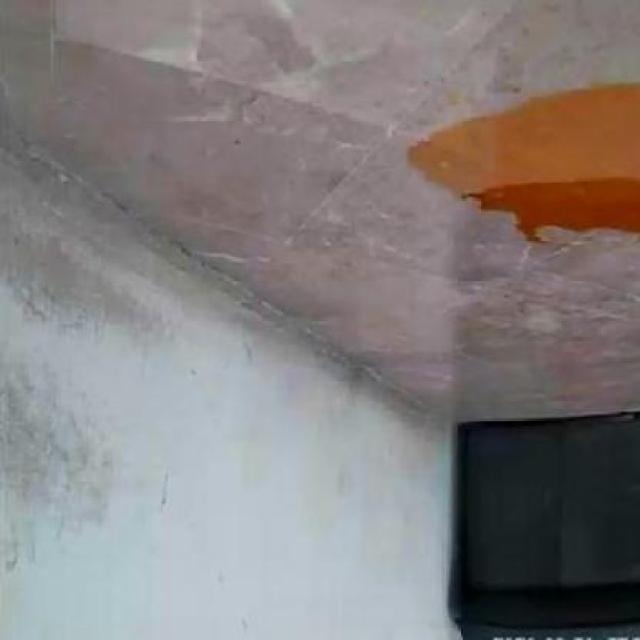spillage: (407, 80, 640, 241)
